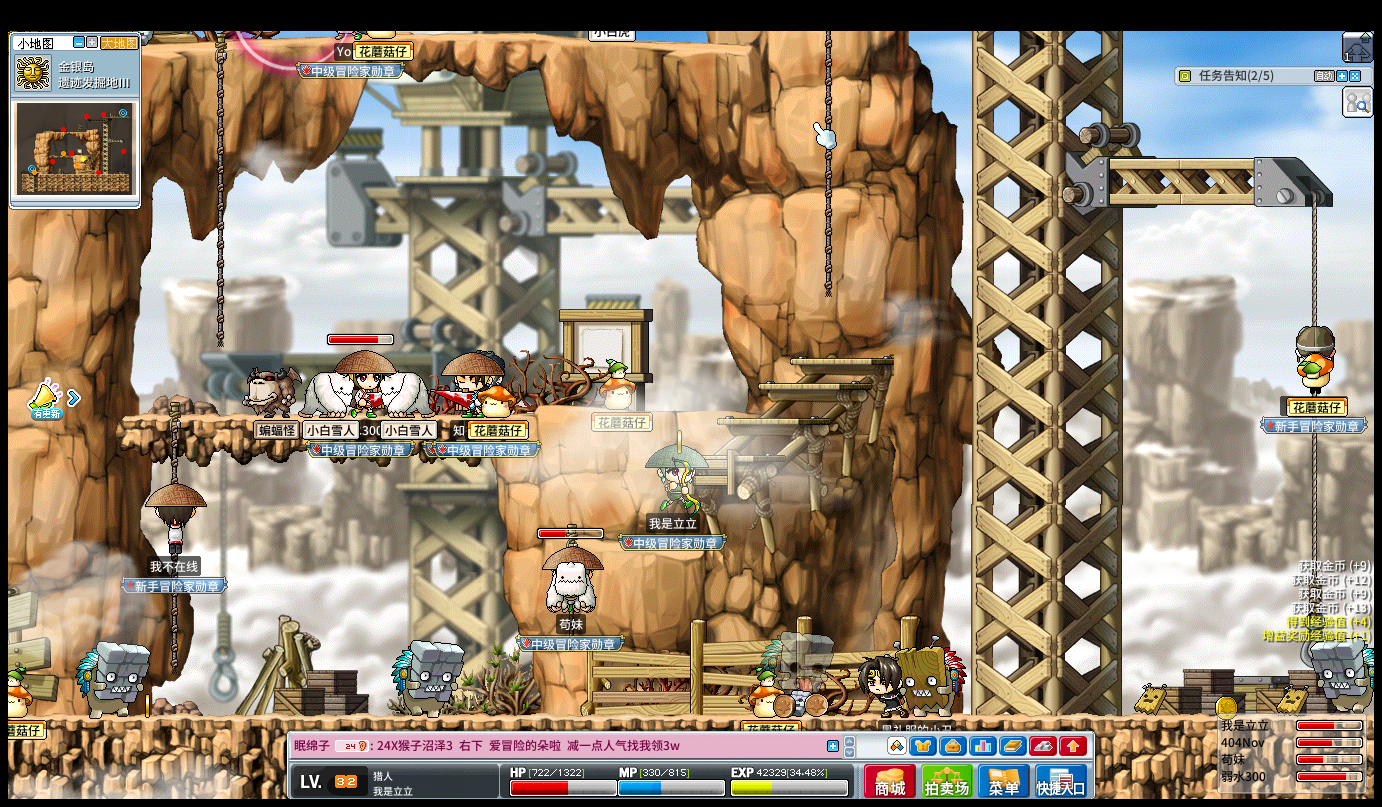floor: (171, 30, 759, 56), (120, 413, 499, 425), (1107, 153, 1303, 172), (558, 407, 756, 418), (671, 454, 783, 464), (754, 381, 866, 390), (718, 416, 828, 424), (787, 357, 895, 365)
monster: (75, 640, 149, 718), (390, 640, 463, 715), (893, 641, 966, 715), (1309, 638, 1377, 713), (200, 346, 249, 417)
rope: (820, 29, 838, 292), (213, 30, 225, 344), (1309, 203, 1321, 327), (820, 188, 833, 293), (1309, 434, 1321, 546), (166, 401, 181, 482), (170, 593, 181, 675), (214, 295, 224, 345)
